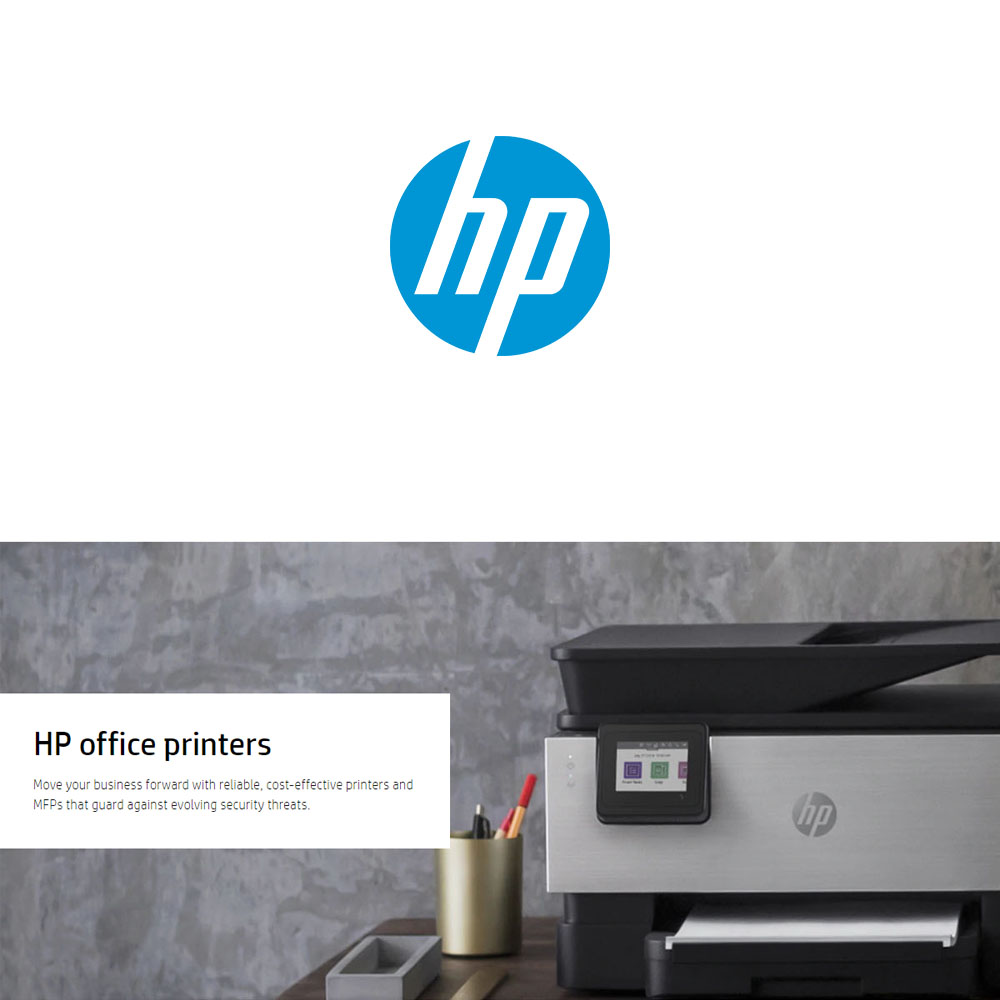printer: (549, 608, 1000, 988)
